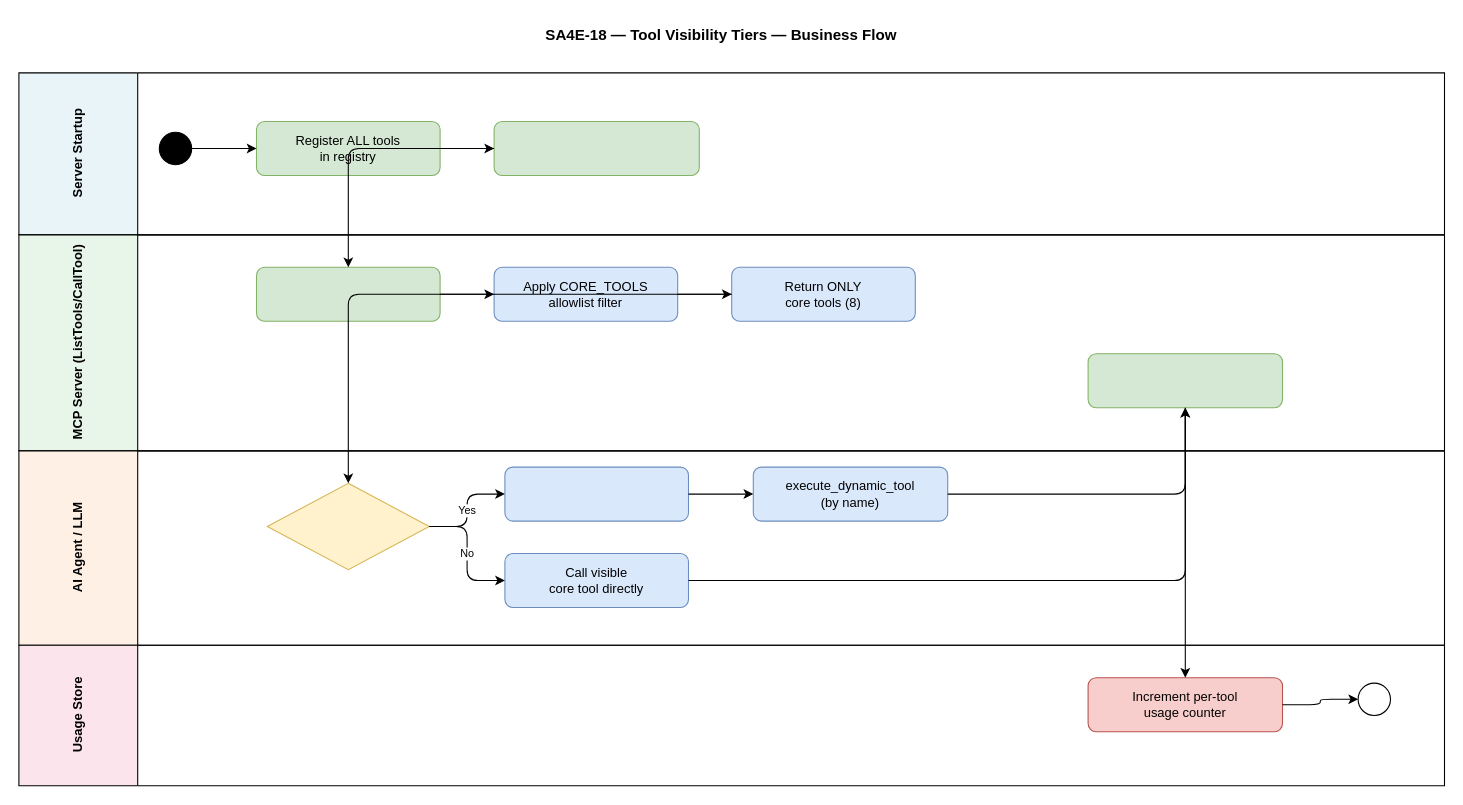
This 1463x805 diagram has some shape labels left out. The shapes that lost their labels are listed below. From the top down, each one's centre as x and y in pixels, then its label:
At (596,148): "Ingest ALL tools into mcp_tools vector index".
At (347,293): "Receive ListTools request".
At (1184,380): "Resolve & execute handler (any tier)".
At (596,493): "find_tools (semantic search)".
At (347,526): "Need a hidden tool?".
